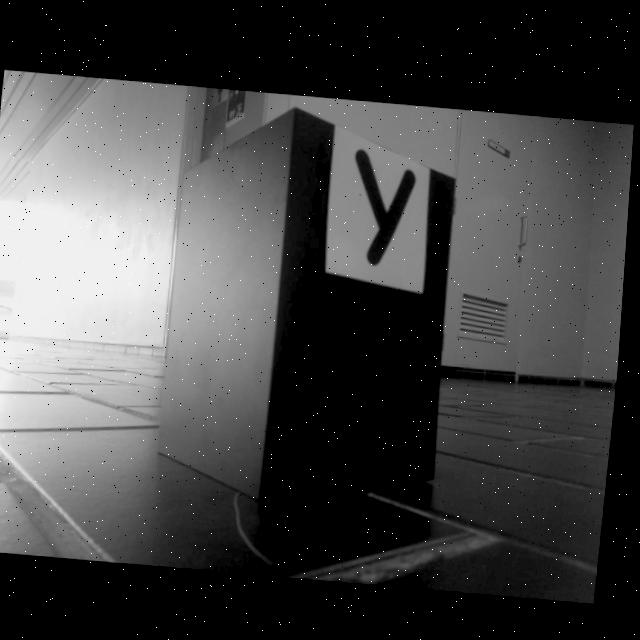Y: (358, 146, 417, 260)
